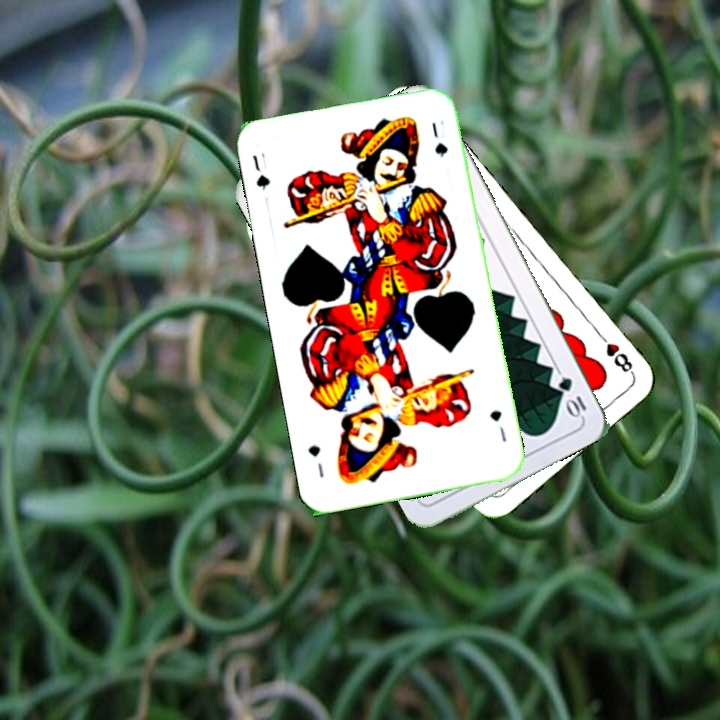G10: (554, 373, 589, 420)
GU: (248, 148, 273, 192), (485, 406, 509, 444)
H8: (593, 328, 637, 378)
